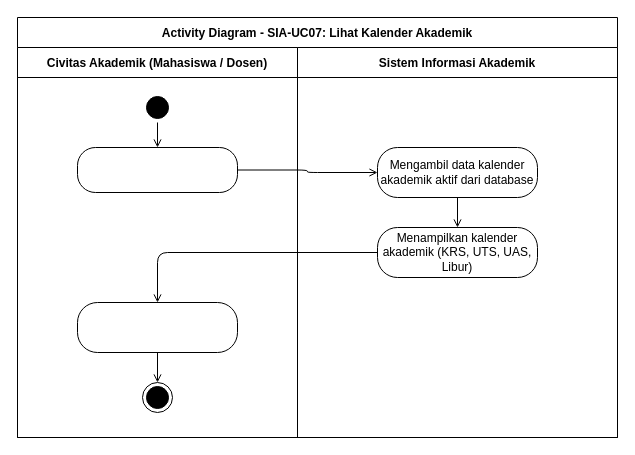
The diagram is 635 pixels wide and 455 high, and some of its shapes have lost their labels. The shapes that lost their labels are listed below. From the top down, each one's box as (x1, y1, x2, y2) in pixels, then its label:
(76, 146, 238, 192): Membuka menu Kalender Akademik
(76, 302, 238, 352): Melihat informasi jadwal & tanggal penting akademik
